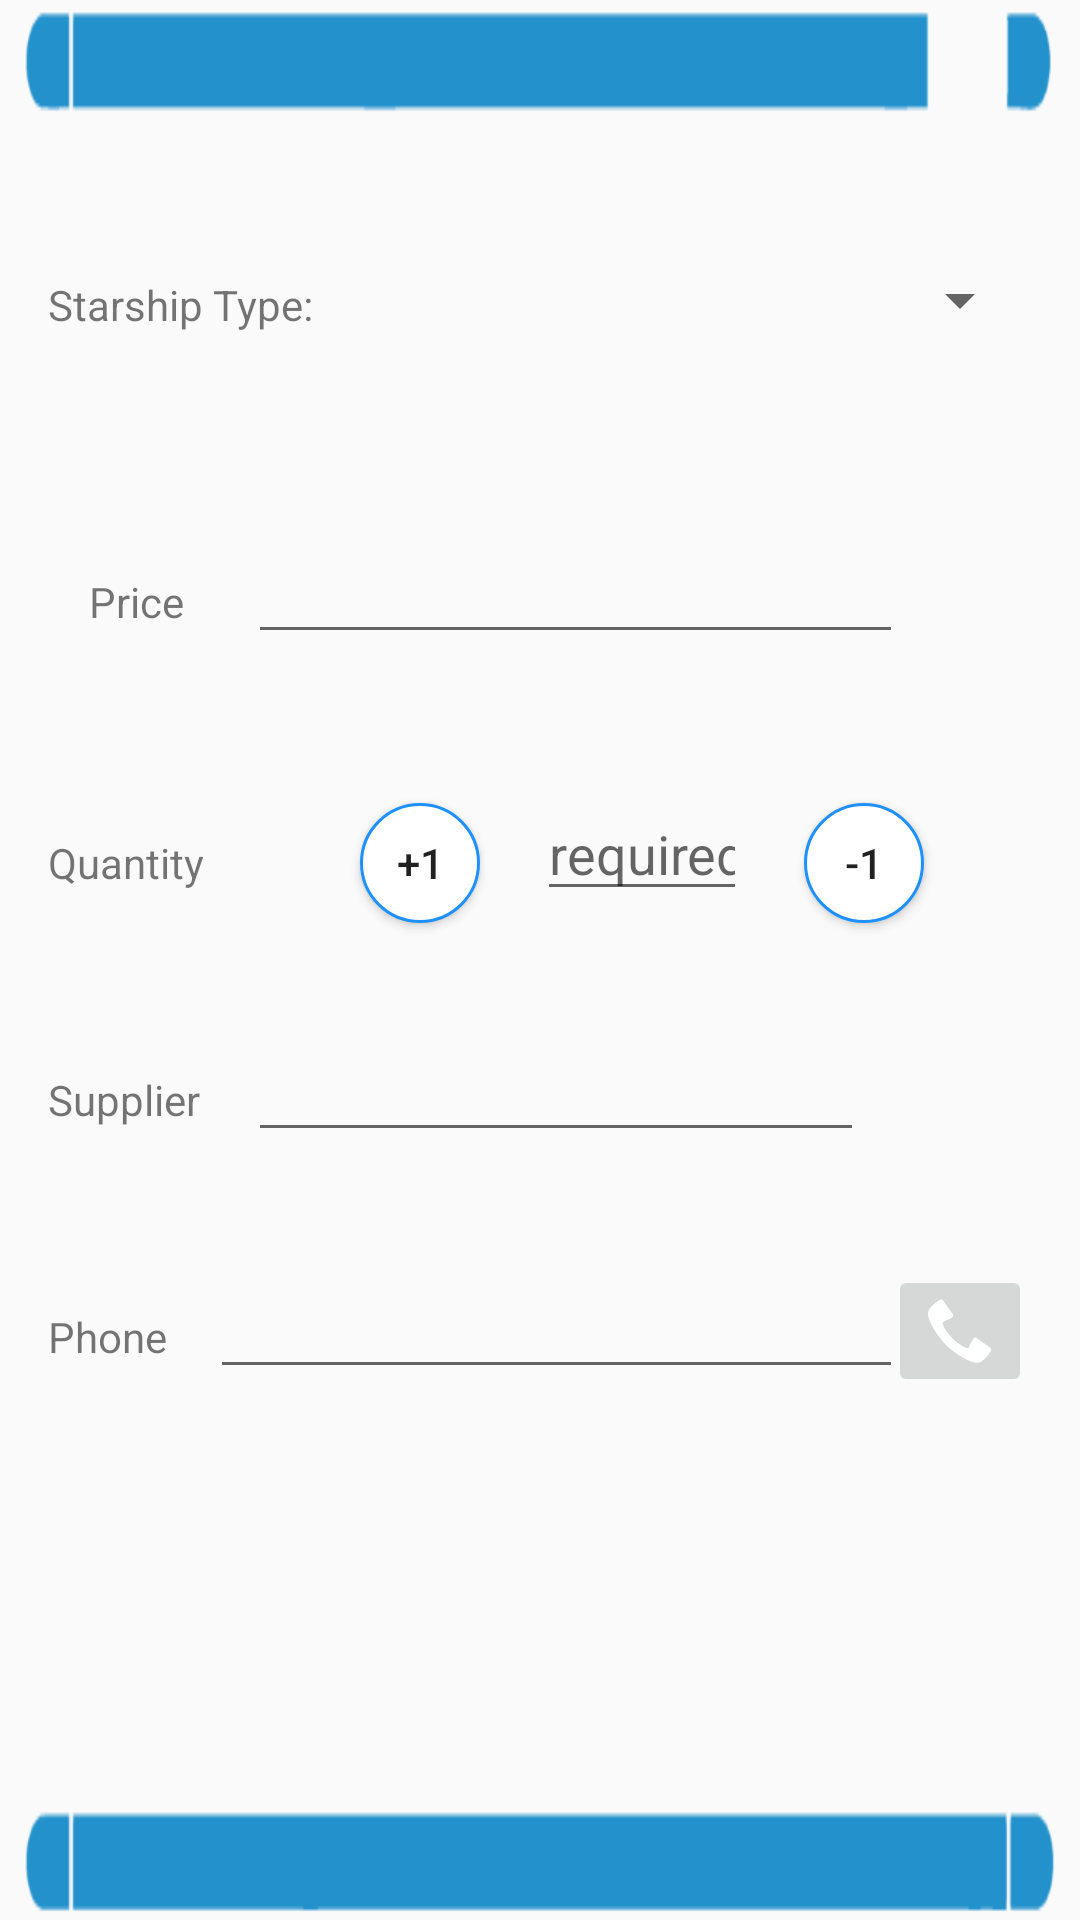

Screen size 1080px×1920px. Icon name, then its center in pixels as (x,y):
phone call: (960,1331)
